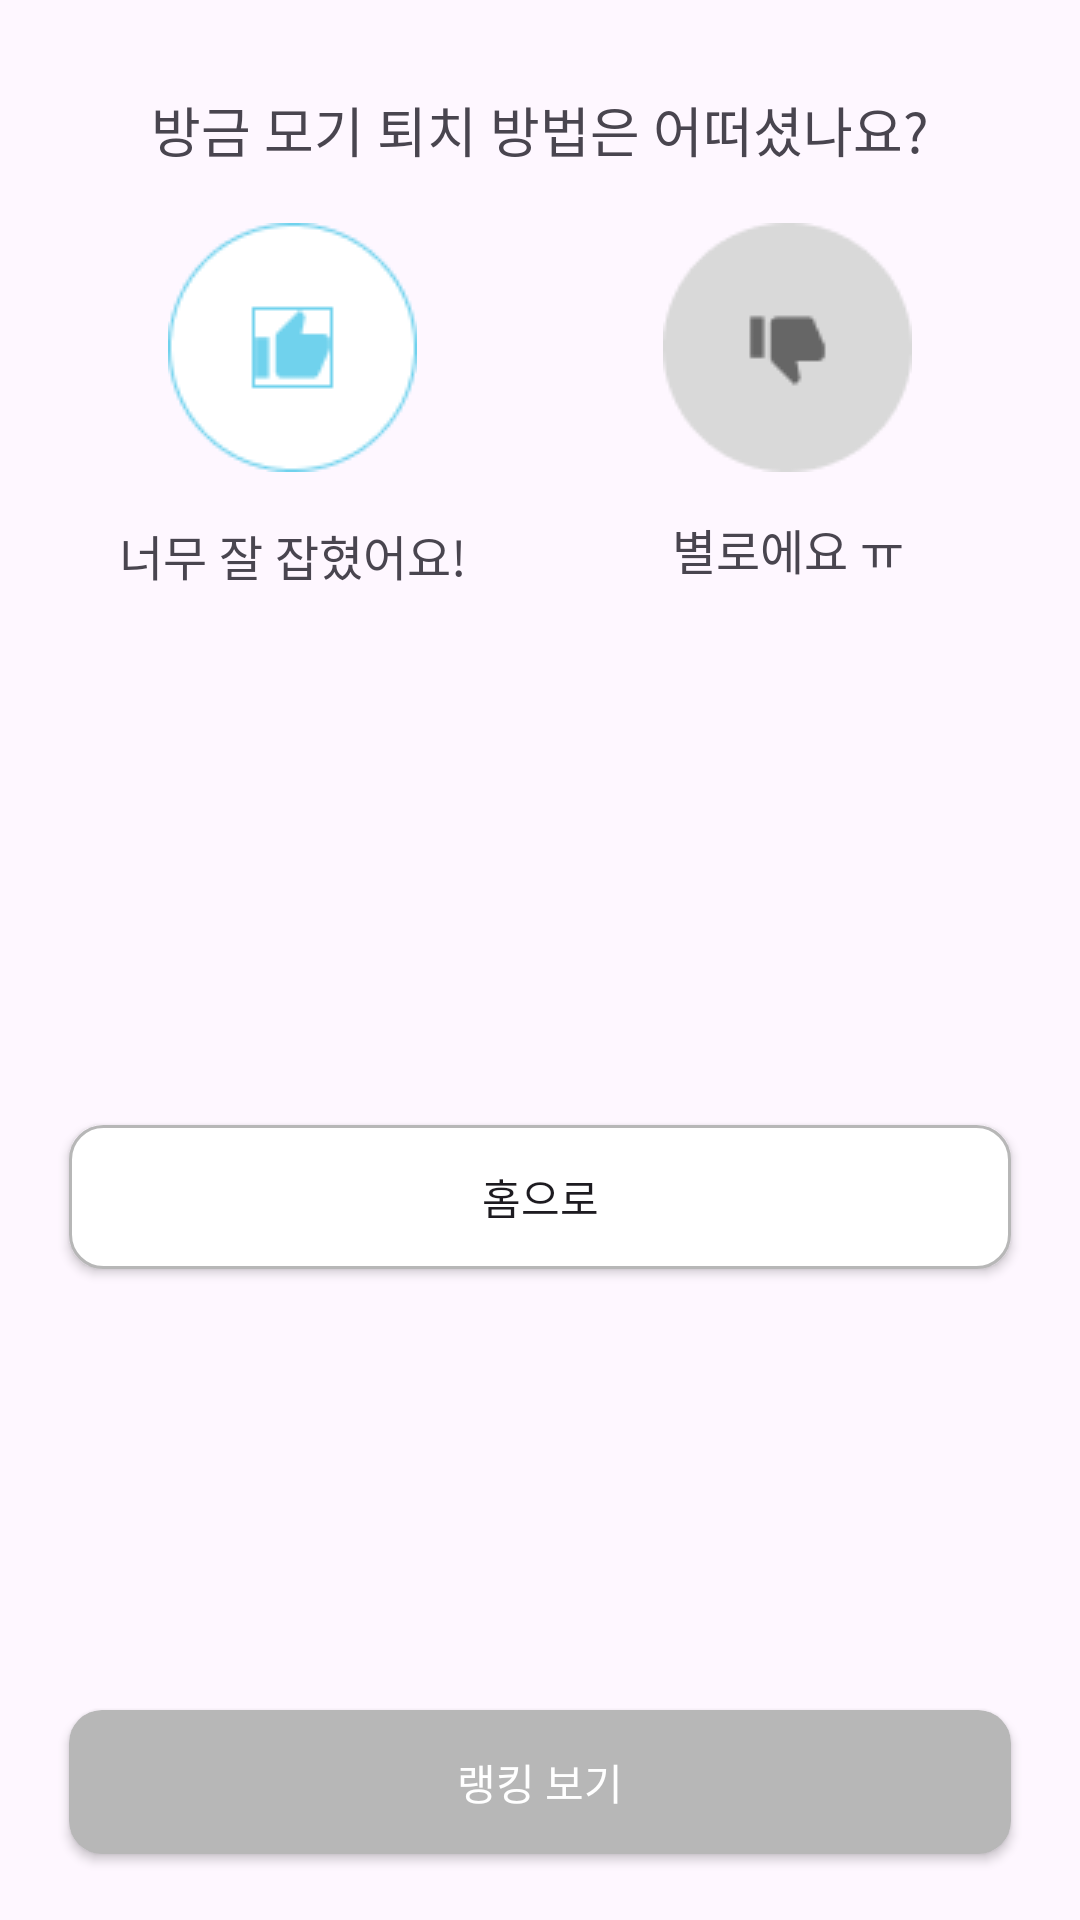

Point at icon controls on the screen. Image size 1080x1920, points as [x,y].
good: [292,347]
